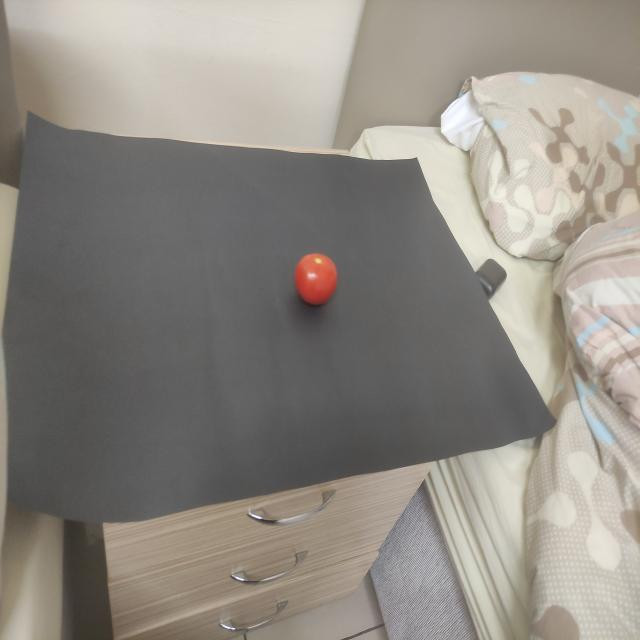kirmizi: (281, 240, 353, 312)
